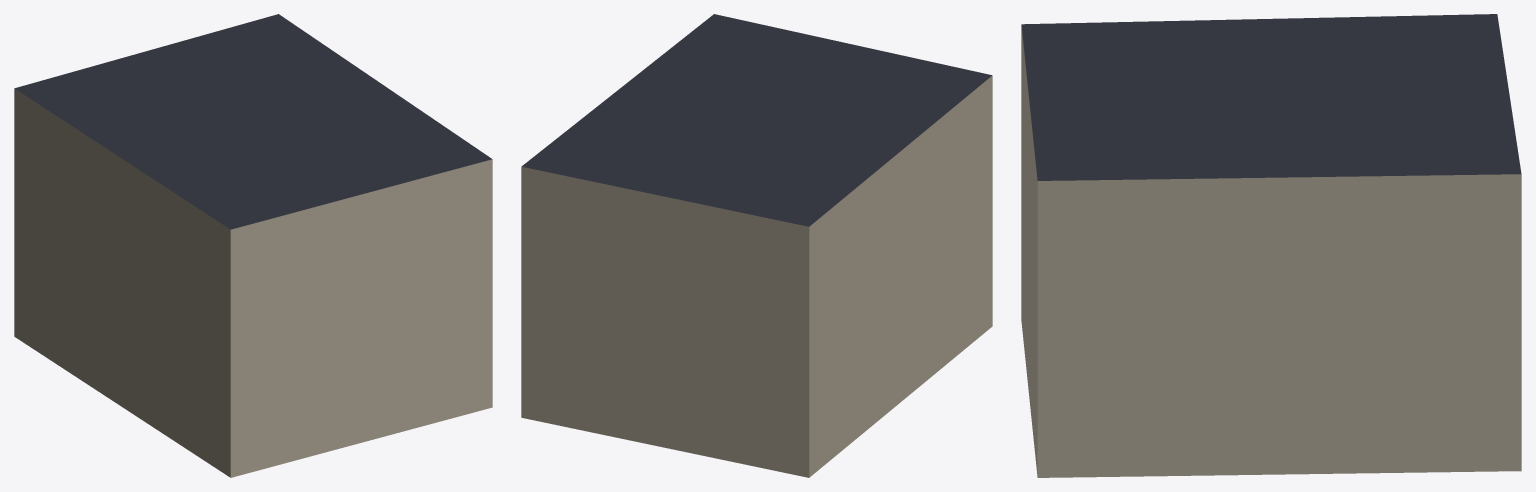
3 renders of one model, left to right at view 1: azimuth 30°, elevation 25°; view 2: azimuth 150°, elevation 25°; view 3: azimuth 270°, elevation 25°, orthographic. The views are drawn at different scales.
Parts seen in each view (by area): view 1: tuile; view 2: tuile; view 3: tuile.
Part boxes in pixels (box(x1,y1,x2,y2)): tuile: box(14, 14, 492, 477); tuile: box(521, 14, 992, 477); tuile: box(1021, 14, 1521, 477).
Bounding box in the file's own units: 4.9 × 4.06 × 6.2.
